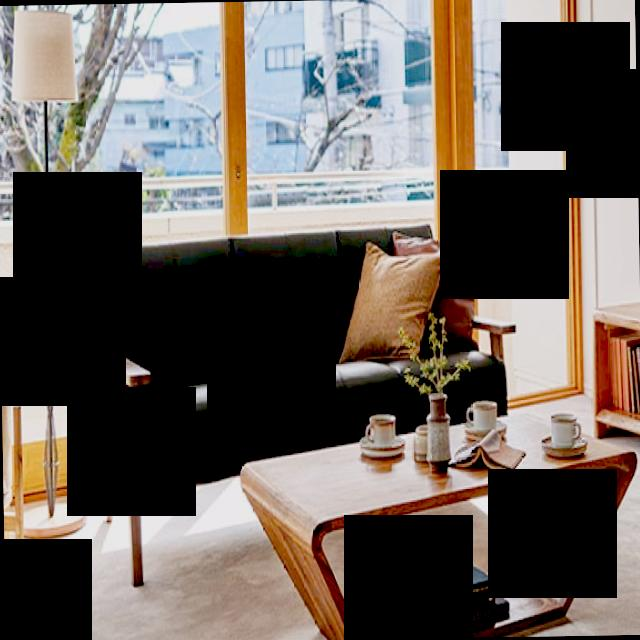vintage desk: (235, 403, 640, 640)
vintage sofa: (101, 211, 512, 469)
